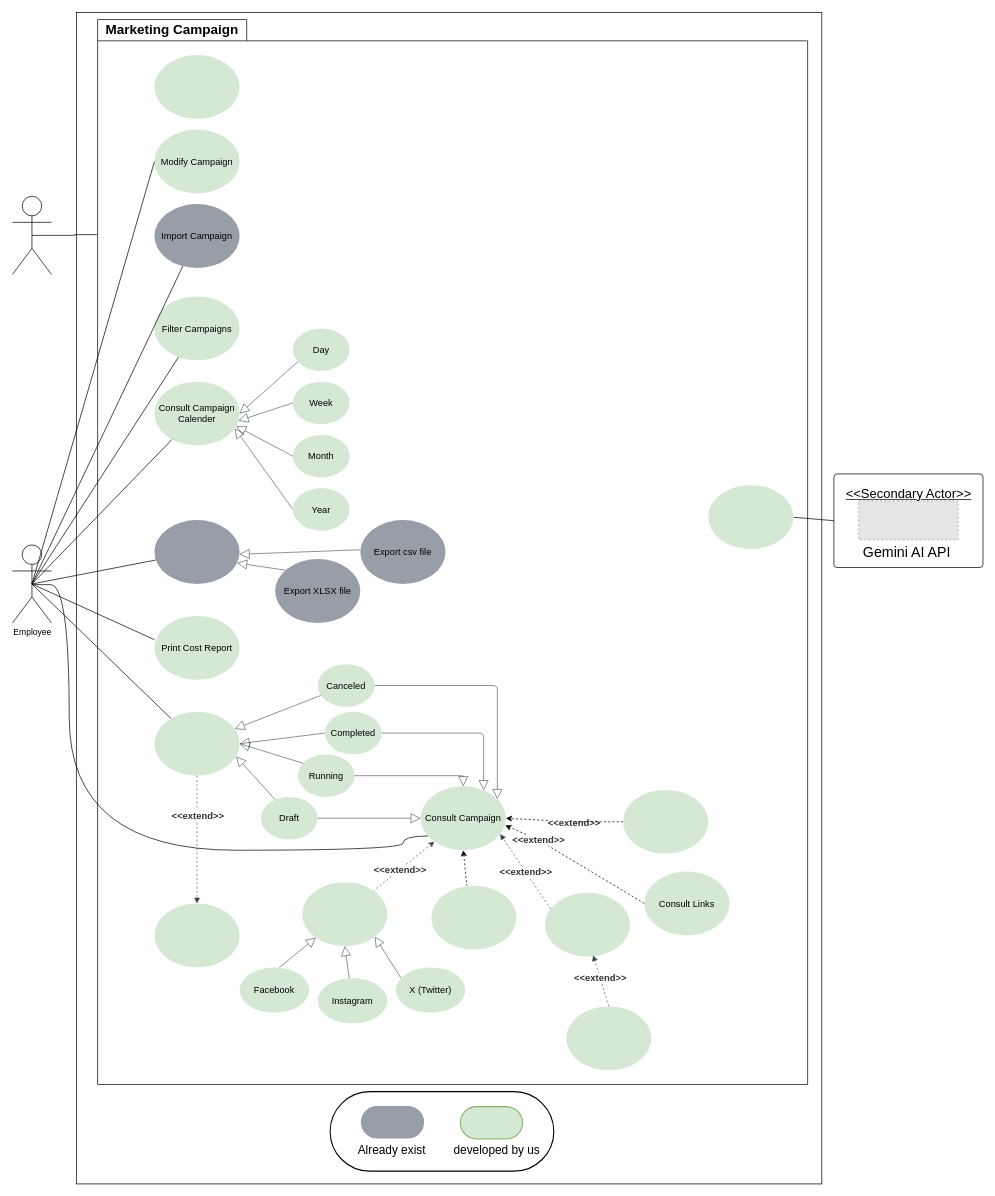
Image size: 995x1196. Some labels were removed from this diagram. Grey dashed boxes stand in for pictures. Here are the shapes that lost their labels. From the top down, the centre of each, then its label:
(197,86): Create Campaign
(31,235): Manager
(750,516): Generate Content
(197,551): Export Campaign
(197,743): Consult Campaign Management Board
(665,821): Consult Images
(344,913): Manage Social Media Content
(473,917): Manage Emails
(587,924): Consult product
(197,935): Change Campaign Status
(608,1038): Apply Discount
